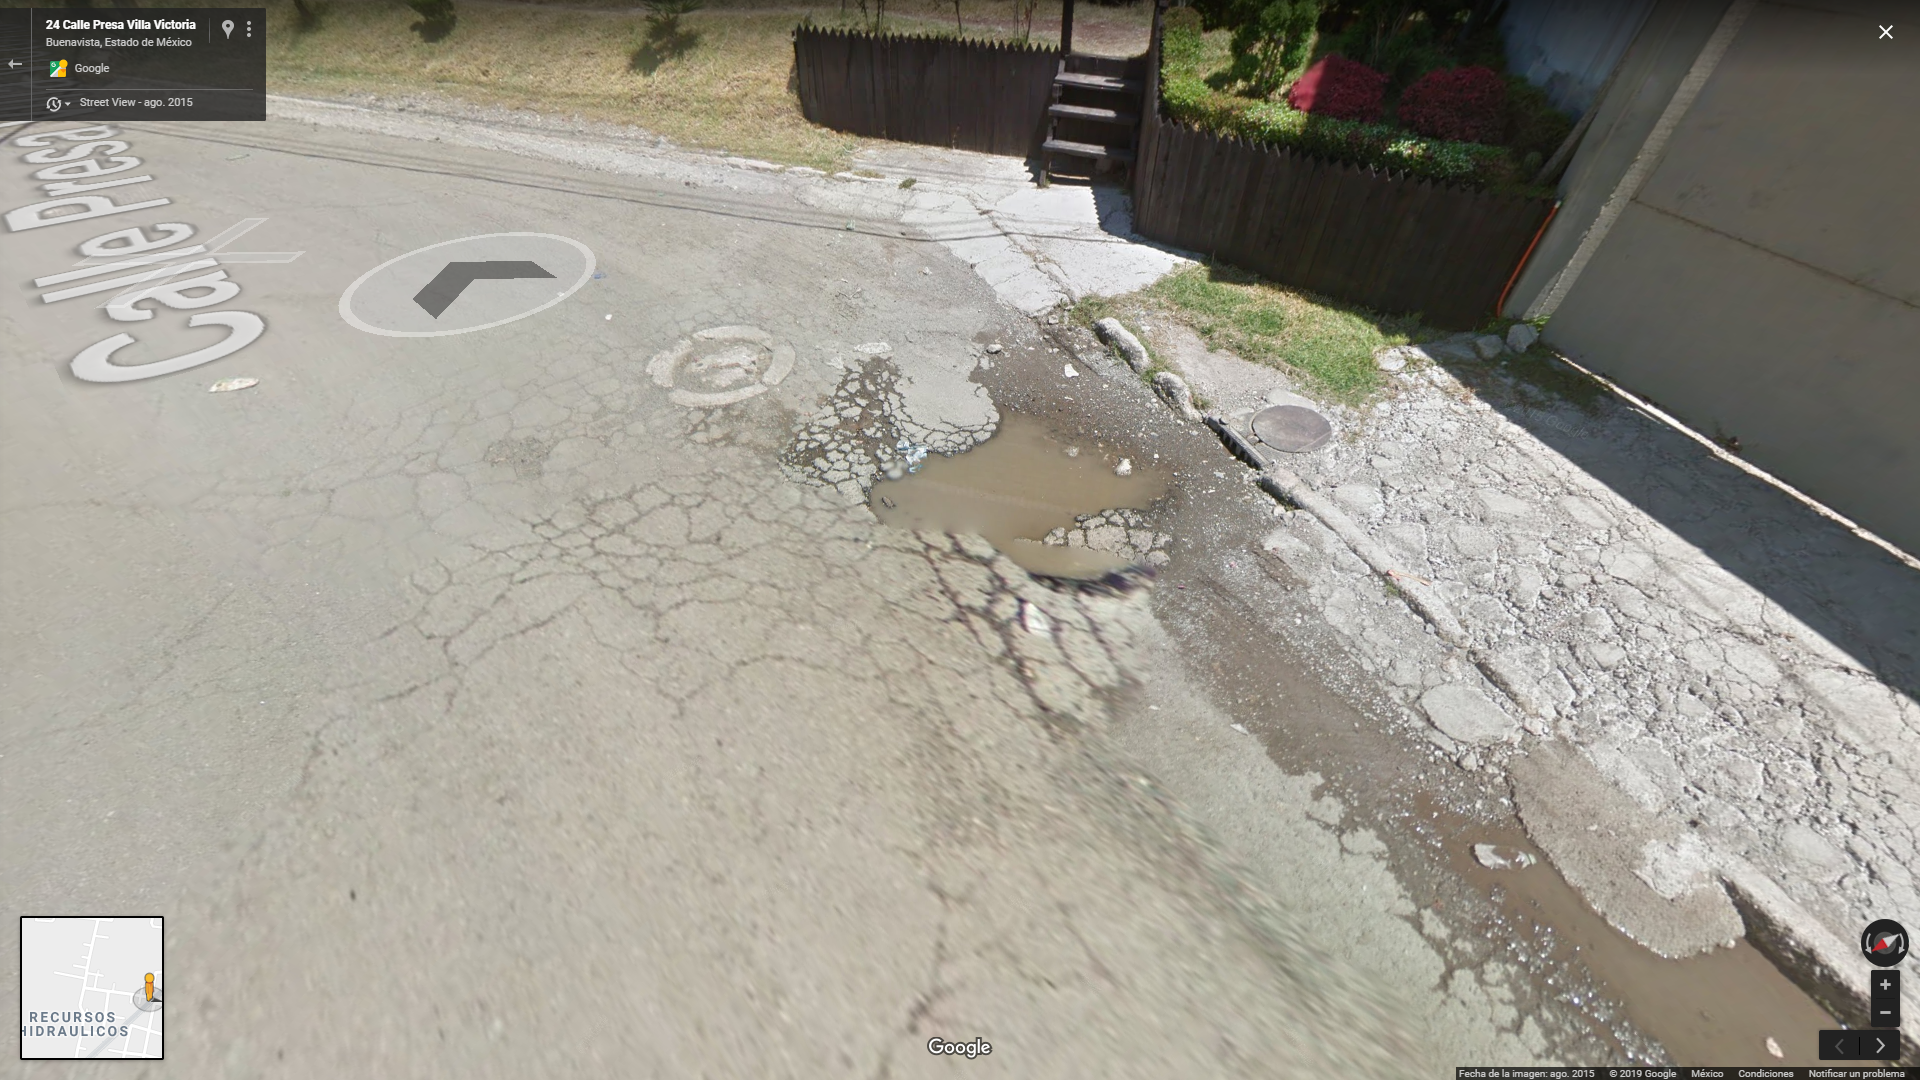pothole: (800, 316, 1211, 625), (1391, 770, 1830, 1058)
